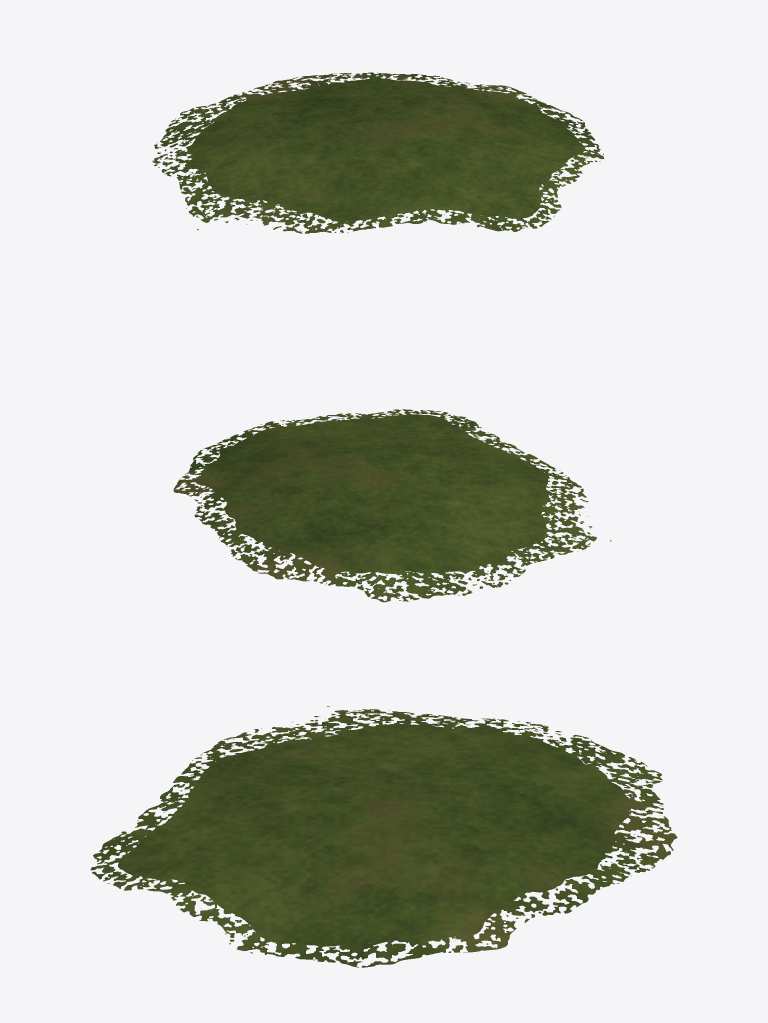
Rendered from mech_2.glb.
The picture shows the model from 3 angles, top to bottom: view 1: azimuth 30°, elevation 25°; view 2: azimuth 150°, elevation 25°; view 3: azimuth 270°, elevation 25°; orthographic projection. The views are drawn at different scales.
Parts seen in each view (by area): view 1: mech_2; view 2: mech_2; view 3: mech_2.
Boxes of the visible parts, box(x1,y1,x2,y2) form: mech_2: box(152, 72, 603, 233); mech_2: box(173, 409, 611, 602); mech_2: box(90, 706, 677, 967).
Size of the model in its own units: 0.7 by 0.0497 by 0.7.
Materials: 1 (1 with a texture image).
